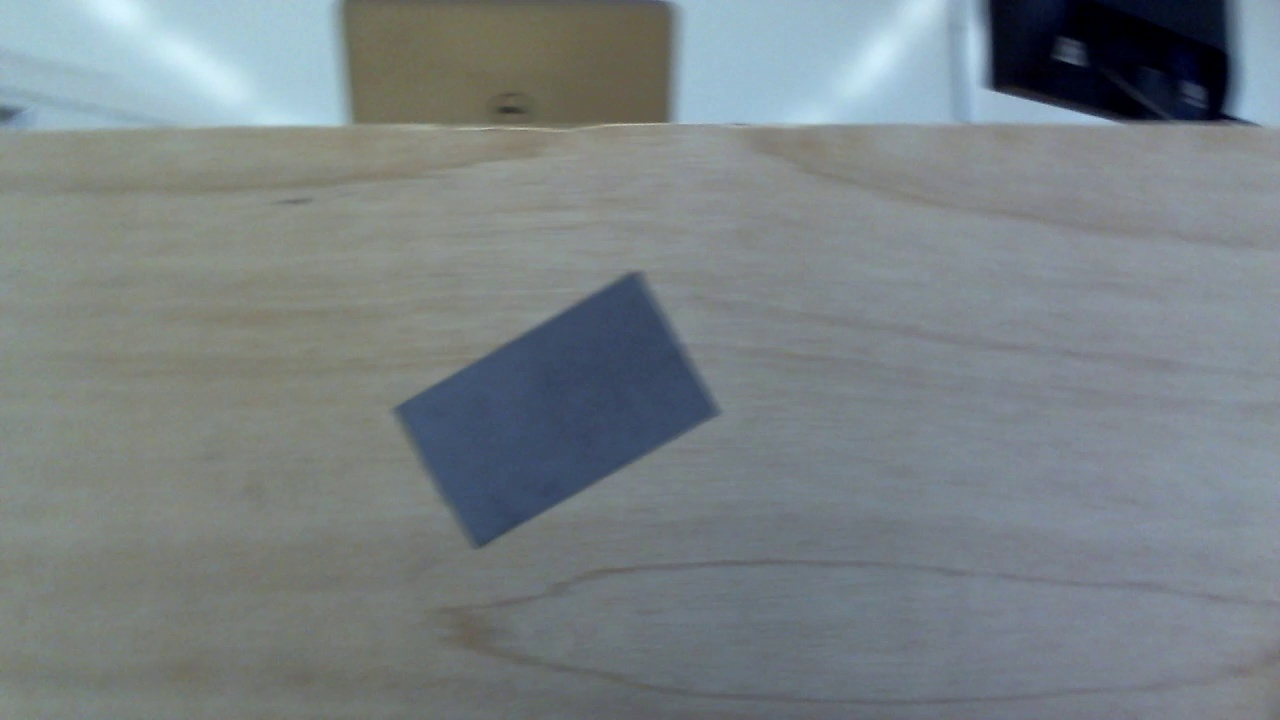Tape: (385, 274, 718, 552)
